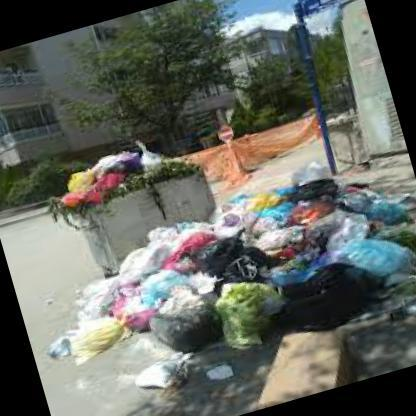Garbage: (132, 169, 354, 356), (160, 186, 391, 352), (235, 205, 414, 334), (34, 248, 215, 372), (46, 134, 168, 208), (124, 349, 202, 401)
